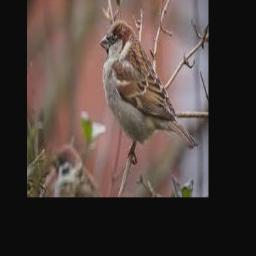Sparrow: (100, 20, 198, 162)
